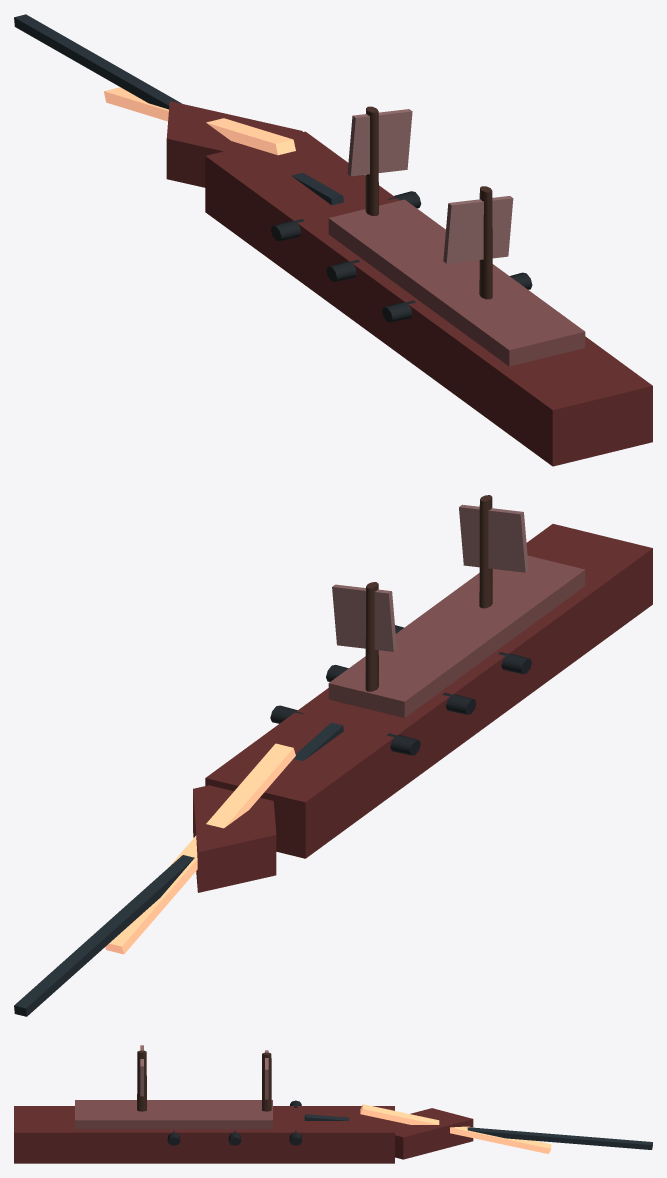
File: ship_main_51.glb
The picture shows the model from 3 angles, top to bottom: view 1: azimuth 30°, elevation 25°; view 2: azimuth 150°, elevation 25°; view 3: azimuth 270°, elevation 25°; orthographic projection. The views are drawn at different scales.
Parts seen in each view (by area): view 1: Hull, Deck_0, Bow, LongSpearProw, Sail_1, Sail_0, ProwIdentity, Mast_1, Mast_0; view 2: Hull, Deck_0, Bow, LongSpearProw, ProwIdentity, Sail_1, Sail_0, Mast_1, Mast_0; view 3: Hull, Deck_0, Bow, LongSpearProw, ProwIdentity, Mast_1, Mast_0.
Boxes of the visible parts, x1=… form: Hull: x1=205, y1=131, x2=652, y2=466; Deck_0: x1=328, y1=199, x2=585, y2=366; Bow: x1=166, y1=101, x2=302, y2=187; LongSpearProw: x1=14, y1=14, x2=343, y2=205; Sail_1: x1=443, y1=196, x2=513, y2=263; Sail_0: x1=347, y1=109, x2=412, y2=176; ProwIdentity: x1=104, y1=87, x2=295, y2=155; Mast_1: x1=479, y1=186, x2=492, y2=299; Mast_0: x1=365, y1=106, x2=378, y2=216; Hull: x1=205, y1=524, x2=652, y2=858; Deck_0: x1=328, y1=555, x2=585, y2=717; Bow: x1=193, y1=785, x2=276, y2=892; LongSpearProw: x1=14, y1=722, x2=343, y2=1016; ProwIdentity: x1=105, y1=743, x2=295, y2=954; Sail_1: x1=459, y1=504, x2=528, y2=572; Sail_0: x1=332, y1=584, x2=396, y2=651; Mast_1: x1=479, y1=495, x2=492, y2=608; Mast_0: x1=365, y1=582, x2=378, y2=691; Hull: x1=14, y1=1106, x2=394, y2=1163; Deck_0: x1=75, y1=1100, x2=272, y2=1129; Bow: x1=395, y1=1108, x2=473, y2=1159; LongSpearProw: x1=304, y1=1114, x2=652, y2=1149; ProwIdentity: x1=360, y1=1104, x2=551, y2=1153; Mast_1: x1=137, y1=1050, x2=146, y2=1111; Mast_0: x1=262, y1=1052, x2=271, y2=1111.
Bounding box in the file's own units: 1.64 × 2.05 × 11.87.
